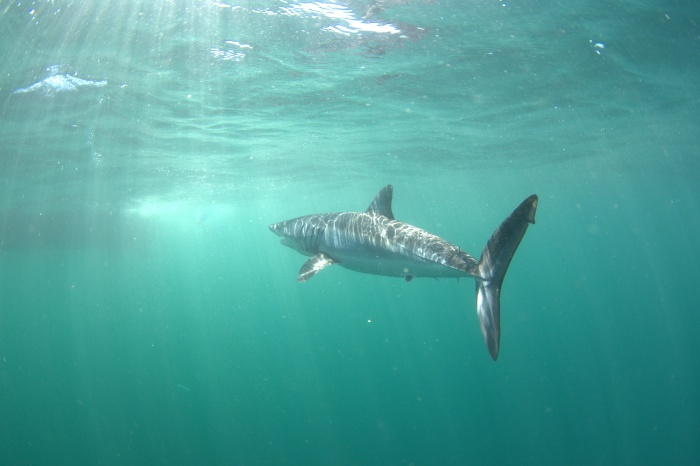Mako: (256, 179, 556, 371)
